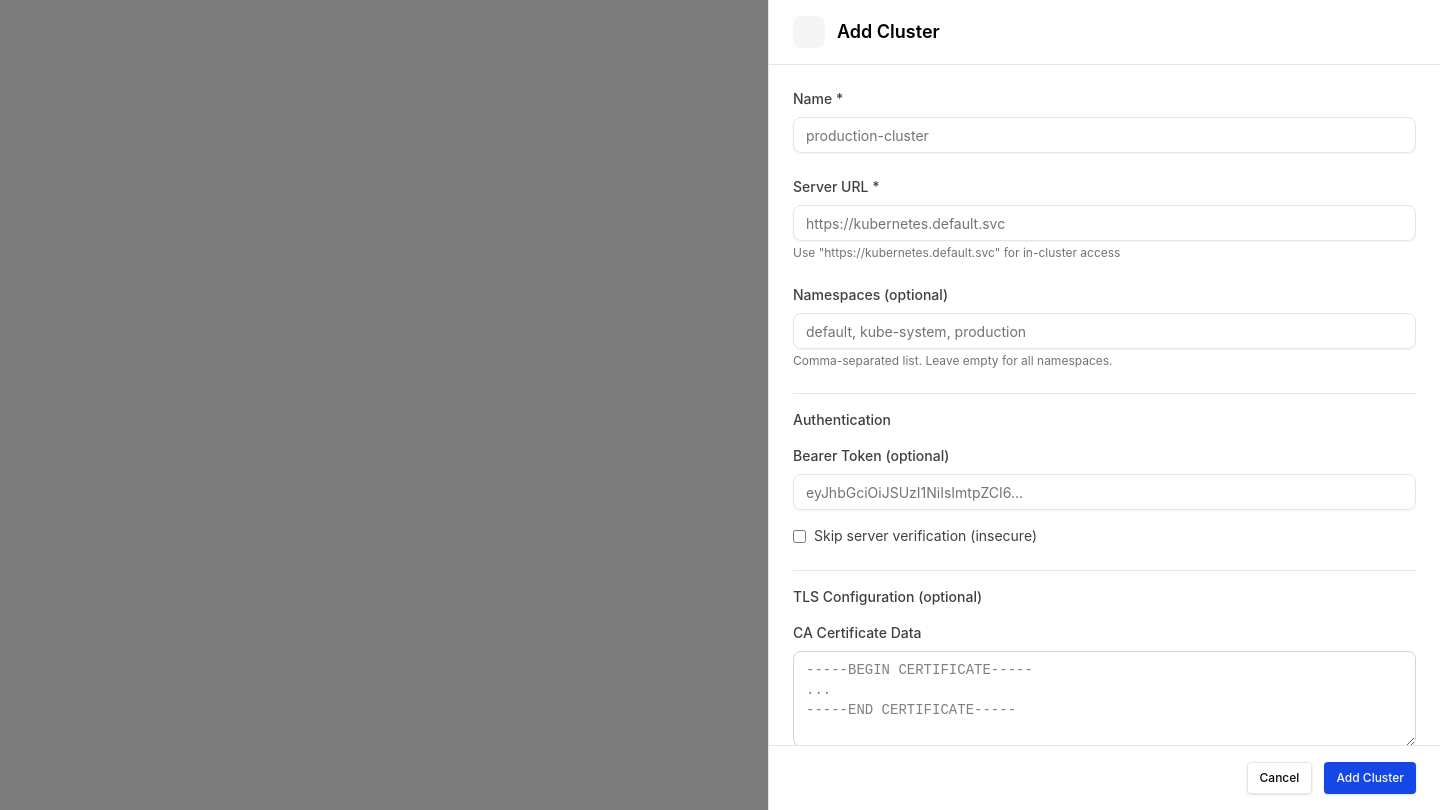
Scenario: CreateClusterPanel namespace restrictions › rejects invalid Kubernetes namespace names without submitting
The image size is (1440, 810).
Type "production" into the field with placeholder "production-cluster".
click(1104, 135); type("production")  # box left=793, top=117, right=1416, bottom=153
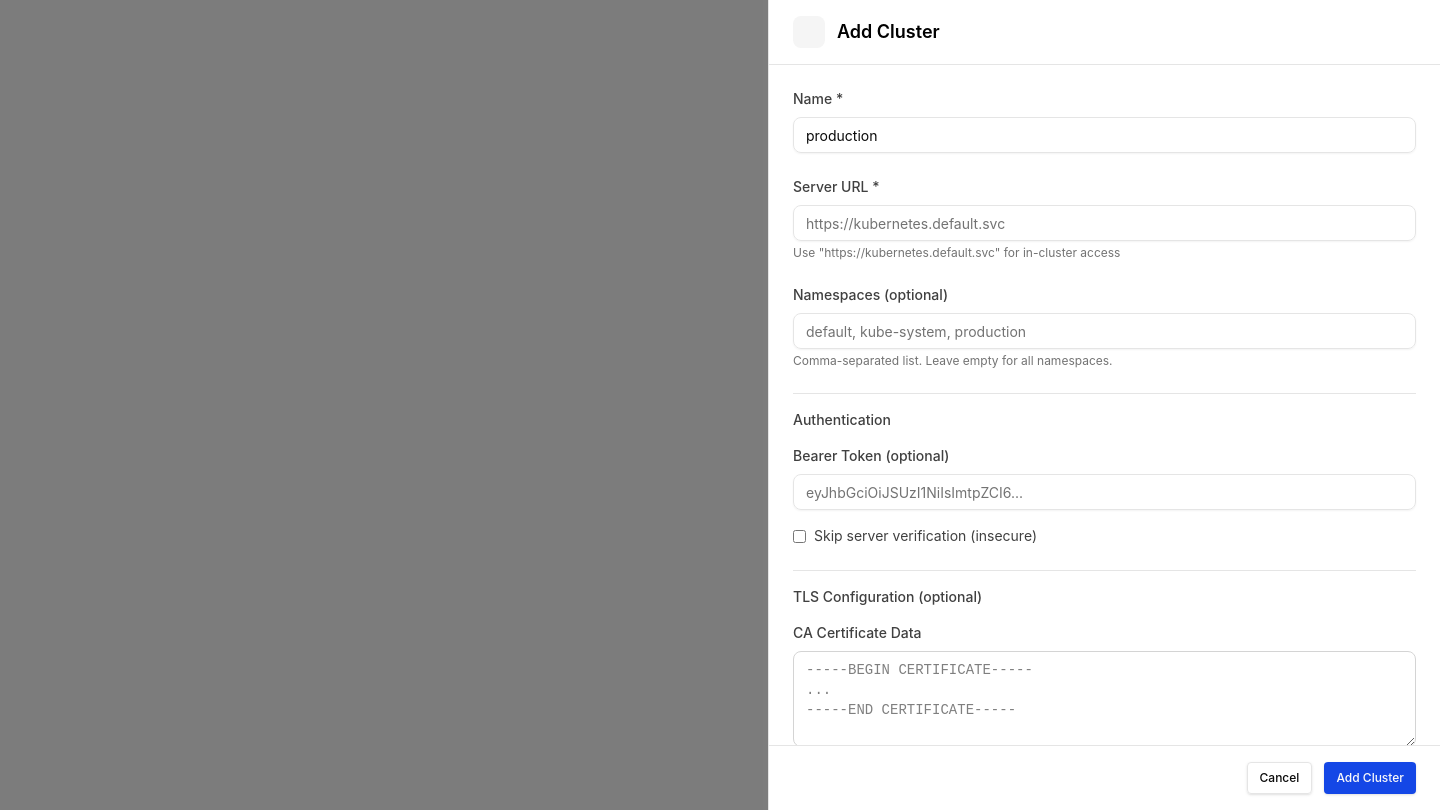
Type "https://api.example.com:6443" into the field with placeholder "https://kubernetes.default.svc".
click(1104, 223); type("https://api.example.com:6443")  # box left=793, top=205, right=1416, bottom=241
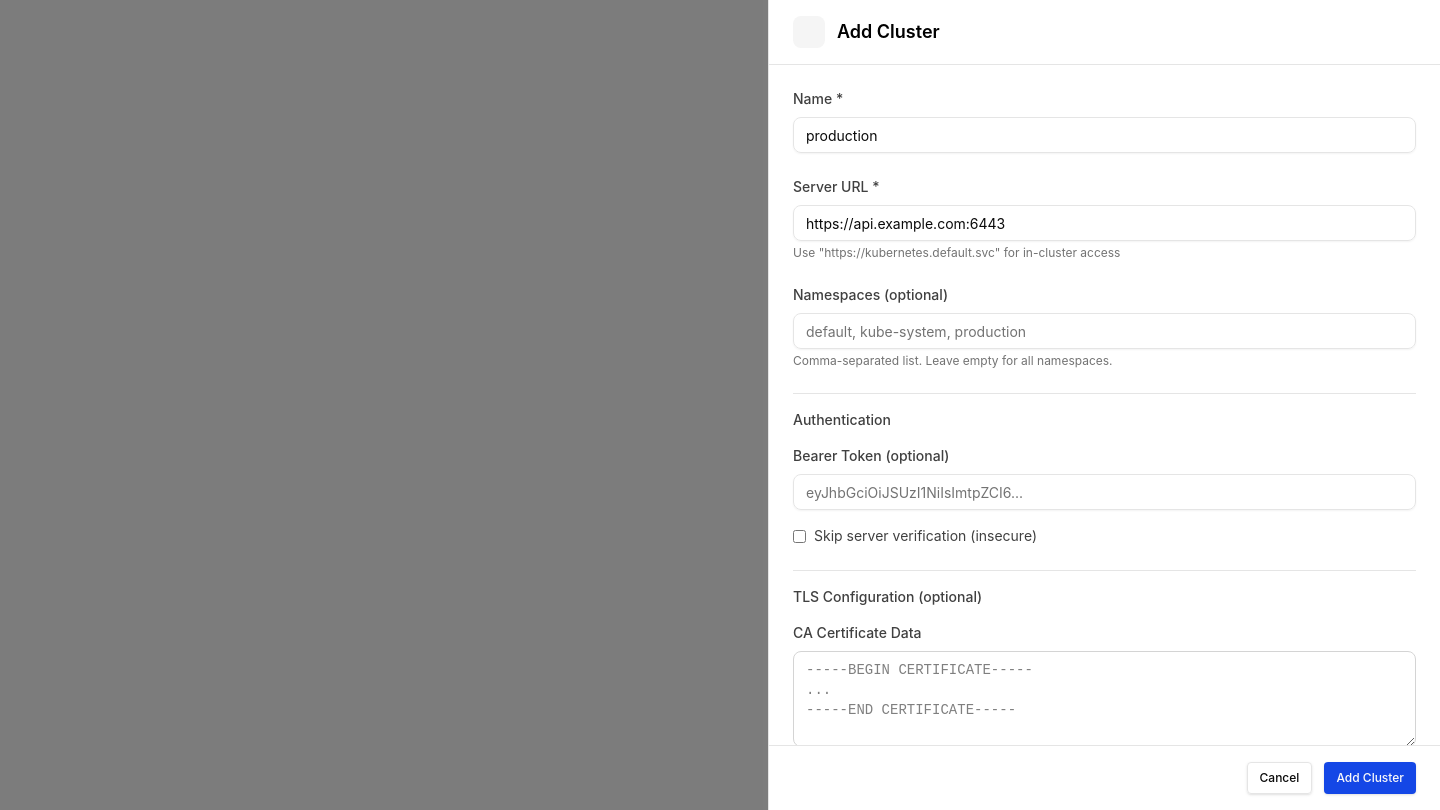
Type "default, Production" into the field labelled "Namespaces (optional)".
click(1104, 331); type("default, Production")  # box left=793, top=313, right=1416, bottom=349
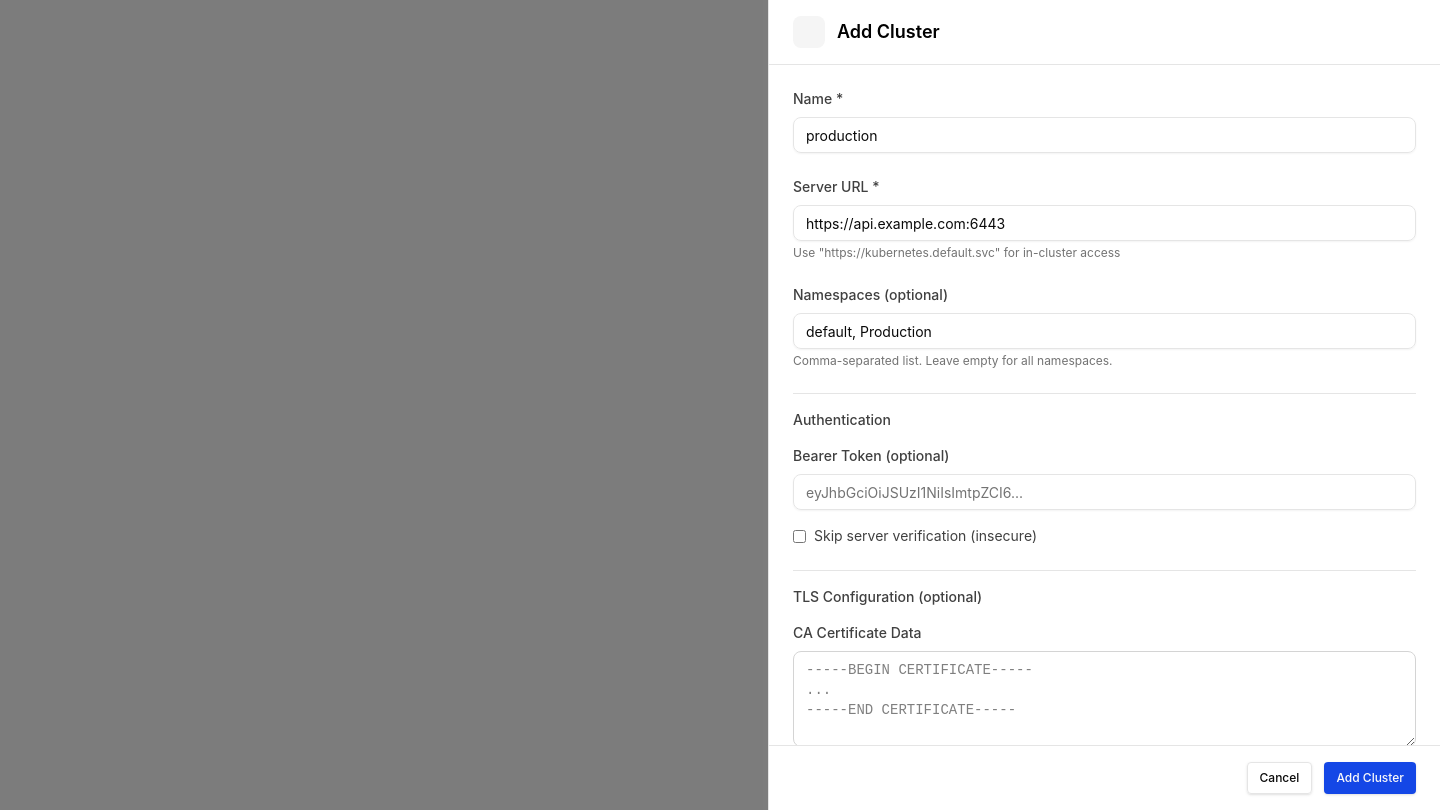
Click the button "Add Cluster".
click(1370, 778)  # box left=1324, top=762, right=1416, bottom=794
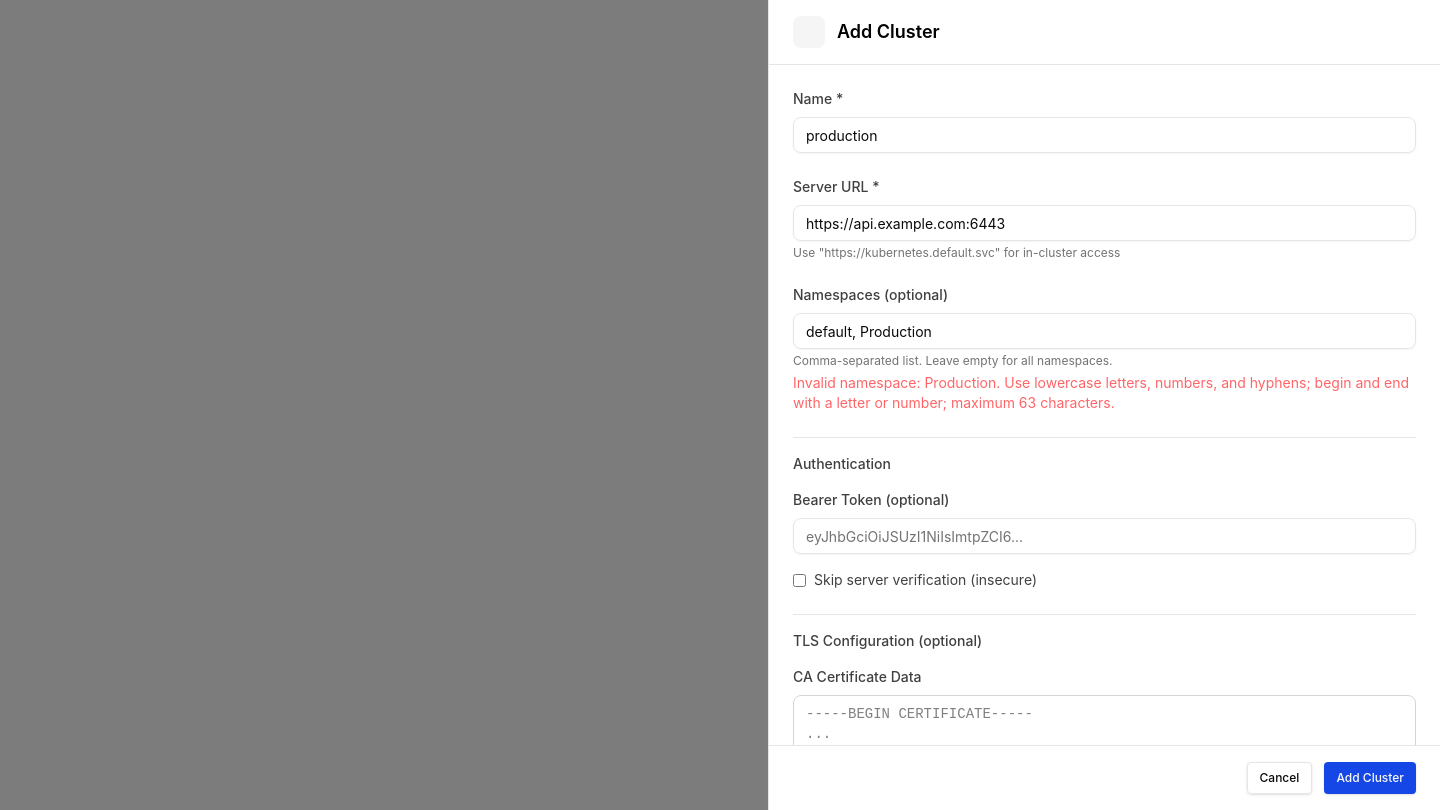
expect the text "Invalid namespace: Production" is shown: met, box left=793, top=374, right=1409, bottom=411
